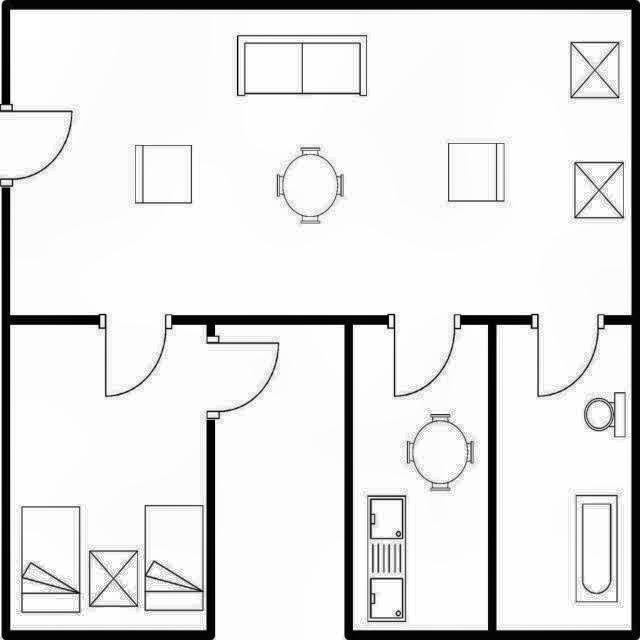room: (10, 12, 630, 314), (11, 326, 207, 630), (352, 324, 487, 630), (496, 324, 631, 629)
